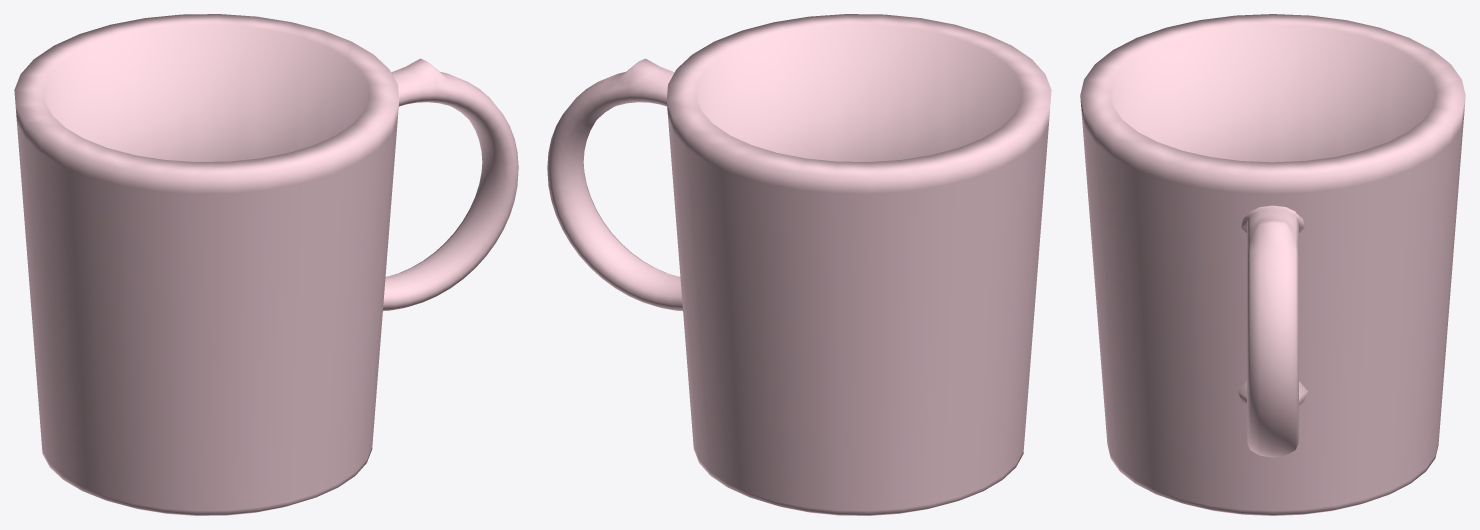
The model's file is Mug.dae.
3 views of the same model, side by side, from view 1: azimuth 30°, elevation 25°; view 2: azimuth 150°, elevation 25°; view 3: azimuth 270°, elevation 25° (orthographic).
Visible parts, largest first — view 1: Cylinder; view 2: Cylinder; view 3: Cylinder.
Part boxes in pixels (x1,y1,x2,y2): Cylinder: [14, 14, 518, 515]; Cylinder: [547, 14, 1051, 515]; Cylinder: [1080, 14, 1465, 515].
Bounding box in the file's own units: 0.9368 × 0.66 × 0.677.
